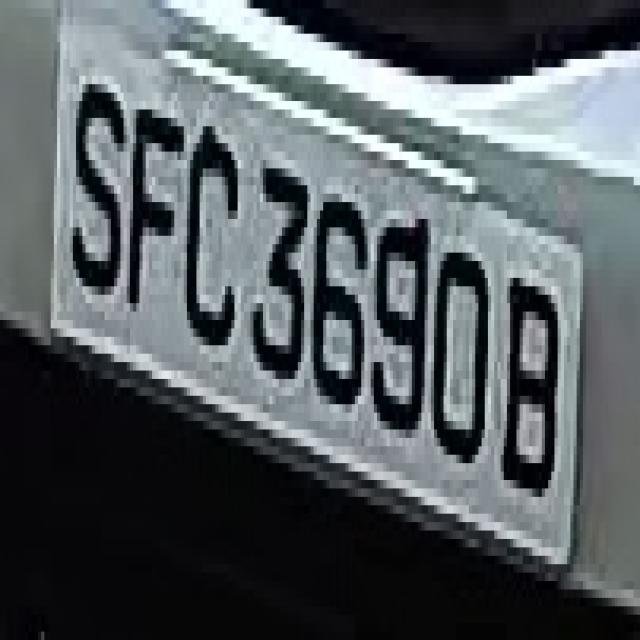0: (431, 211, 491, 505)
3: (253, 118, 317, 396)
6: (304, 168, 371, 412)
9: (368, 168, 428, 472)
B: (501, 219, 564, 539)
C: (174, 93, 238, 387)
F: (124, 67, 178, 320)
S: (73, 51, 127, 320)
